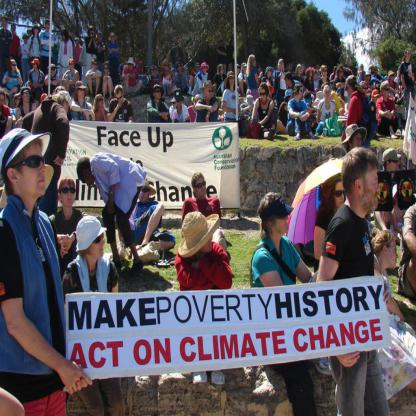face: (19, 141, 46, 194), (362, 163, 380, 209), (384, 239, 399, 268), (198, 229, 214, 253), (278, 205, 289, 234), (63, 184, 76, 207), (334, 184, 346, 208), (93, 232, 104, 257), (196, 179, 207, 198), (80, 173, 95, 186), (389, 157, 399, 175), (140, 183, 149, 203), (353, 133, 363, 149), (116, 92, 123, 103), (261, 90, 267, 102), (98, 97, 105, 107), (25, 91, 31, 102), (207, 87, 213, 98), (1, 96, 6, 109), (79, 88, 85, 98), (156, 90, 162, 100), (348, 83, 353, 95), (385, 87, 390, 98), (177, 98, 183, 107), (325, 90, 331, 99), (230, 75, 235, 85), (3, 18, 8, 28), (299, 87, 303, 99), (12, 62, 17, 71), (287, 77, 291, 87), (407, 51, 411, 60), (374, 96, 379, 103), (391, 73, 395, 81), (364, 86, 368, 94), (105, 65, 109, 72), (71, 63, 75, 70), (91, 30, 95, 37), (129, 64, 133, 71), (178, 64, 182, 71), (269, 69, 273, 76), (281, 63, 285, 70), (299, 67, 303, 74), (237, 68, 241, 75), (99, 35, 103, 42), (94, 62, 98, 68), (35, 27, 39, 33), (254, 58, 257, 66), (18, 98, 22, 104), (12, 26, 15, 33), (221, 67, 224, 74), (244, 66, 247, 73), (413, 75, 416, 82), (340, 73, 343, 80), (112, 35, 115, 42), (53, 67, 56, 73), (34, 62, 37, 68), (48, 22, 51, 28), (63, 35, 66, 41), (204, 67, 207, 73), (310, 71, 313, 77), (368, 76, 371, 82), (376, 68, 379, 74), (369, 92, 372, 98), (315, 73, 318, 79), (258, 65, 261, 71), (77, 39, 80, 45), (124, 58, 127, 64), (186, 68, 189, 74), (318, 67, 321, 73), (166, 65, 169, 70), (362, 66, 365, 71), (325, 70, 328, 75), (371, 84, 374, 89), (25, 37, 28, 41), (398, 72, 401, 76), (198, 68, 201, 72), (137, 57, 140, 61), (154, 71, 157, 74)
